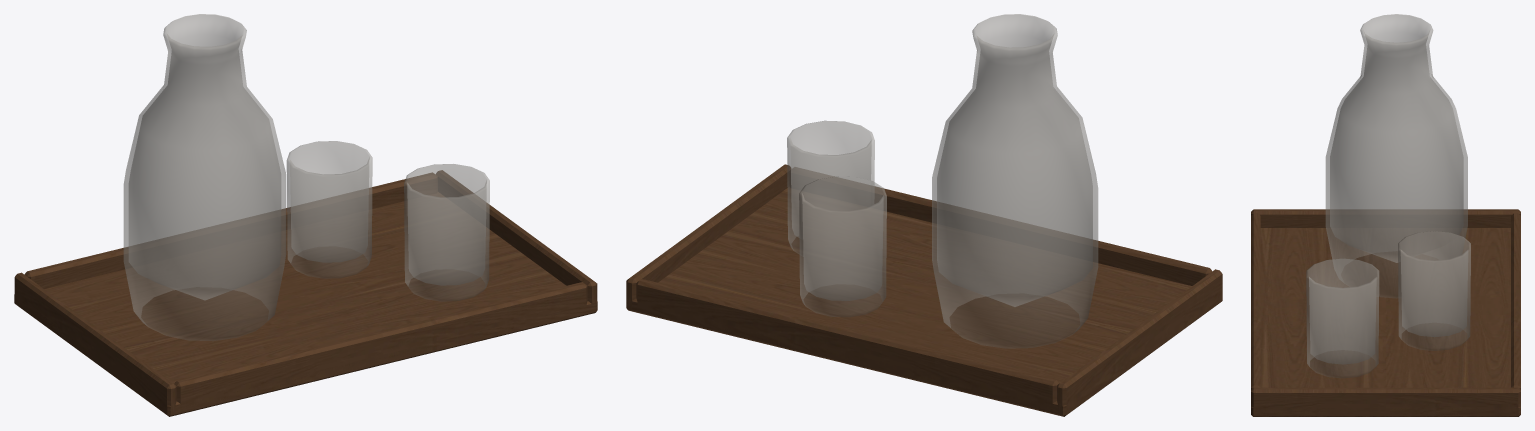
The model's file is decor_c_tray_carafe.gltf.
3 renders of one model, left to right at view 1: azimuth 30°, elevation 25°; view 2: azimuth 150°, elevation 25°; view 3: azimuth 270°, elevation 25°, orthographic. The views are drawn at different scales.
Parts seen in each view (by area): view 1: DecorC_TrayCarafe_Walnut_NoCollide, DecorC_TrayCarafe_Carafe01_Glass_NoCollide, DecorC_TrayCarafe_Glass02_Glass_NoCollide, DecorC_TrayCarafe_Glass01_Glass_NoCollide; view 2: DecorC_TrayCarafe_Walnut_NoCollide, DecorC_TrayCarafe_Carafe01_Glass_NoCollide, DecorC_TrayCarafe_Glass01_Glass_NoCollide, DecorC_TrayCarafe_Glass02_Glass_NoCollide; view 3: DecorC_TrayCarafe_Walnut_NoCollide, DecorC_TrayCarafe_Carafe01_Glass_NoCollide, DecorC_TrayCarafe_Glass01_Glass_NoCollide, DecorC_TrayCarafe_Glass02_Glass_NoCollide.
Part boxes in pixels (x1,y1,x2,y2): DecorC_TrayCarafe_Walnut_NoCollide: (14,170,597,416); DecorC_TrayCarafe_Carafe01_Glass_NoCollide: (123,14,286,340); DecorC_TrayCarafe_Glass02_Glass_NoCollide: (404,164,489,301); DecorC_TrayCarafe_Glass01_Glass_NoCollide: (286,141,372,278); DecorC_TrayCarafe_Walnut_NoCollide: (626,164,1222,416); DecorC_TrayCarafe_Carafe01_Glass_NoCollide: (932,14,1098,348); DecorC_TrayCarafe_Glass01_Glass_NoCollide: (799,176,886,316); DecorC_TrayCarafe_Glass02_Glass_NoCollide: (787,120,874,254); DecorC_TrayCarafe_Walnut_NoCollide: (1251,209,1520,416); DecorC_TrayCarafe_Carafe01_Glass_NoCollide: (1325,14,1467,298); DecorC_TrayCarafe_Glass01_Glass_NoCollide: (1398,231,1470,350); DecorC_TrayCarafe_Glass02_Glass_NoCollide: (1306,258,1379,377).
Size of the model in its own units: 0.4 by 0.264 by 0.25.
Materials: 2 (1 with a texture image).
